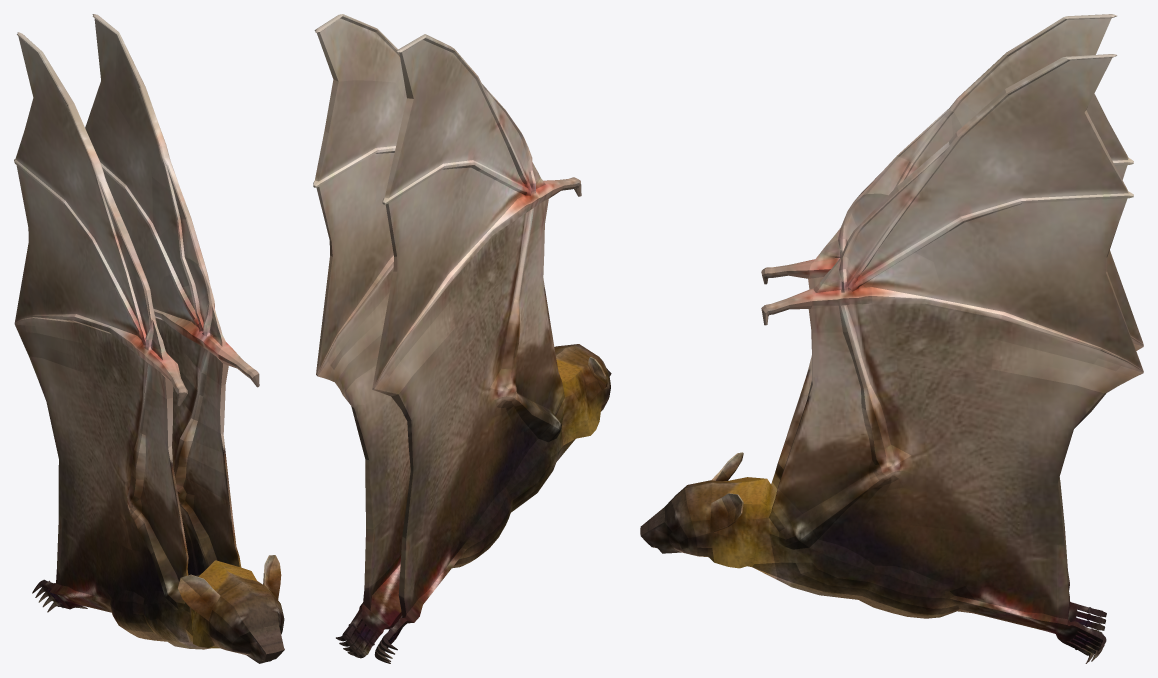
File: Bat_Model.fbx
3 renders of one model, left to right at view 1: azimuth 30°, elevation 25°; view 2: azimuth 150°, elevation 25°; view 3: azimuth 270°, elevation 25°, orthographic. The views are drawn at different scales.
Parts seen in each view (by area): view 1: batLowPoly1; view 2: batLowPoly1; view 3: batLowPoly1.
Part boxes in pixels (x1,y1,x2,y2): batLowPoly1: (14, 14, 284, 663); batLowPoly1: (313, 14, 611, 663); batLowPoly1: (640, 14, 1143, 663).
Size of the model in its own units: 36.28 by 197 by 145.
